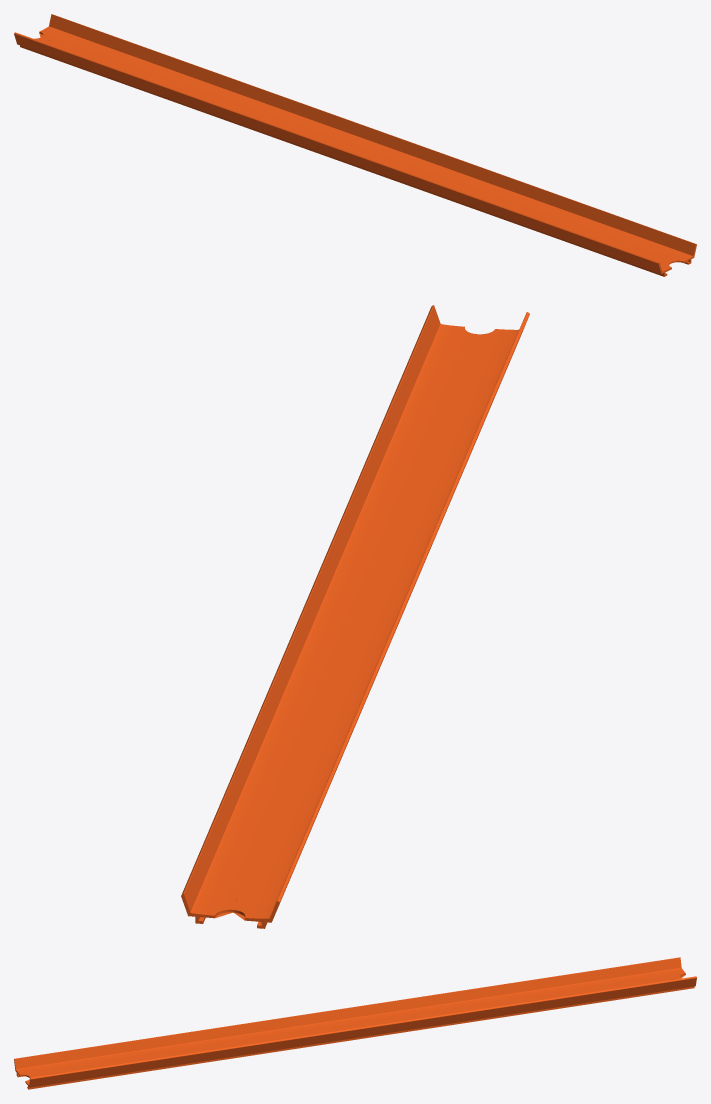
The model's file is TrackStraight.fbx.
The picture shows the model from 3 angles, top to bottom: view 1: azimuth 30°, elevation 25°; view 2: azimuth 150°, elevation 25°; view 3: azimuth 270°, elevation 25°; orthographic projection. The views are drawn at different scales.
Parts seen in each view (by area): view 1: Track.001; view 2: Track.001; view 3: Track.001.
Part boxes in pixels (x1,y1,x2,y2): Track.001: [14, 14, 696, 276]; Track.001: [181, 305, 529, 928]; Track.001: [14, 957, 696, 1089].
Size of the model in its own units: 327112 by 18112 by 777666.
